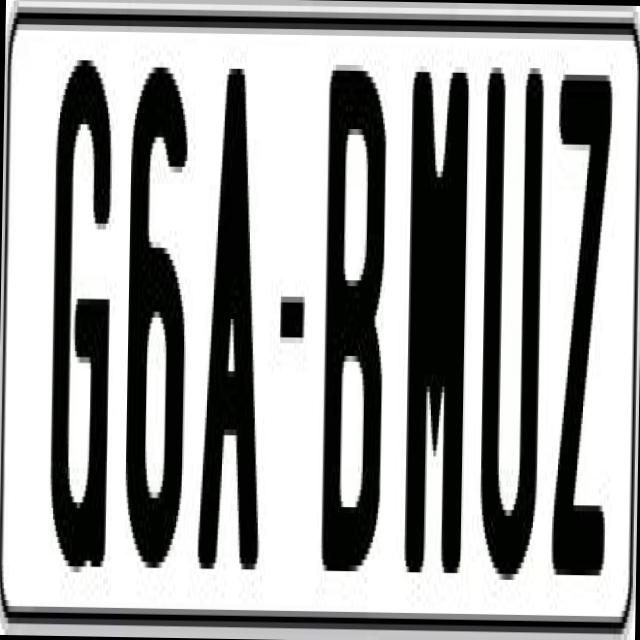6: (118, 54, 190, 592)
A: (194, 62, 272, 587)
B: (317, 64, 390, 589)
G: (48, 59, 122, 566)
M: (398, 65, 468, 596)
U: (478, 67, 545, 609)
Z: (549, 56, 611, 586)
